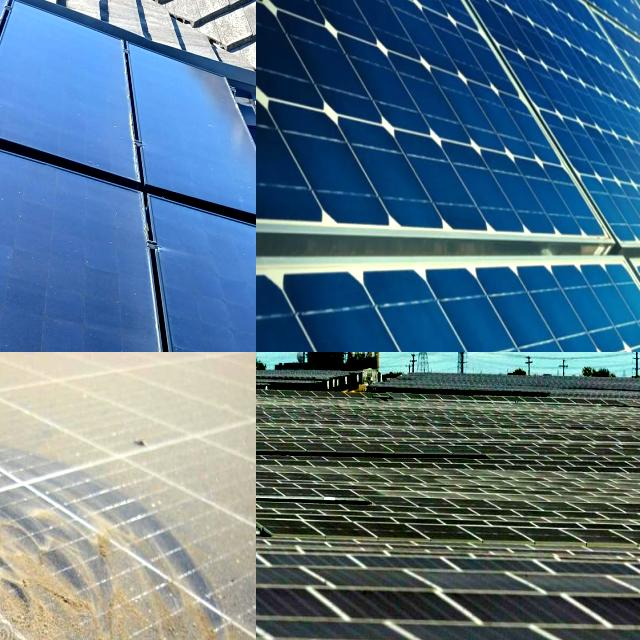crack: (256, 0, 640, 247), (256, 251, 640, 352)
dust: (0, 186, 125, 352), (0, 352, 141, 486), (0, 352, 117, 507), (154, 352, 256, 500), (9, 521, 131, 640), (184, 239, 256, 352), (145, 580, 256, 640)
